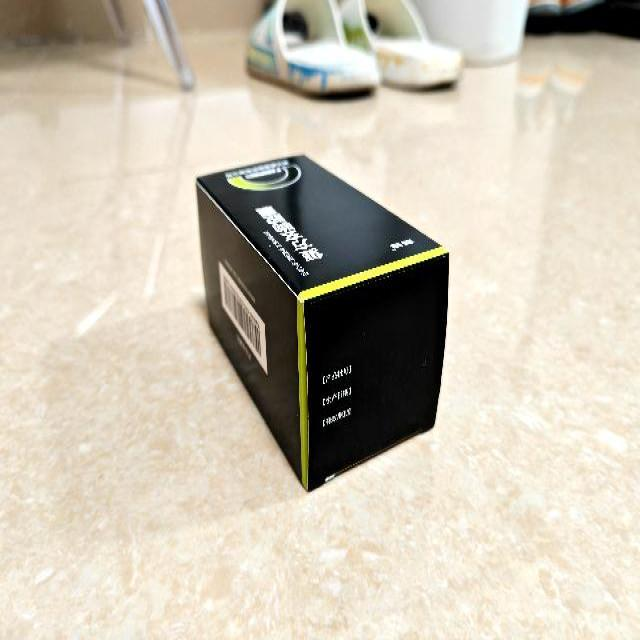box: (195, 154, 451, 494)
